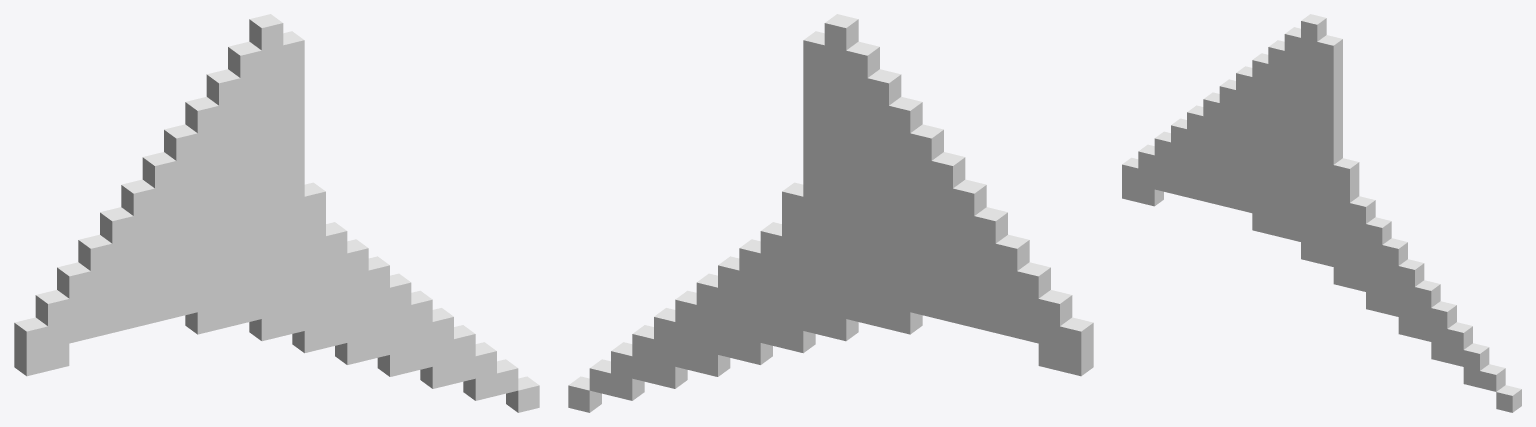
The model's file is Fight_029_3_16_fx.obj.
3 renders of one model, left to right at view 1: azimuth 30°, elevation 25°; view 2: azimuth 150°, elevation 25°; view 3: azimuth 330°, elevation 25°, orthographic. The views are drawn at different scales.
Size of the model in its own units: 2.4 by 2 by 0.1.
